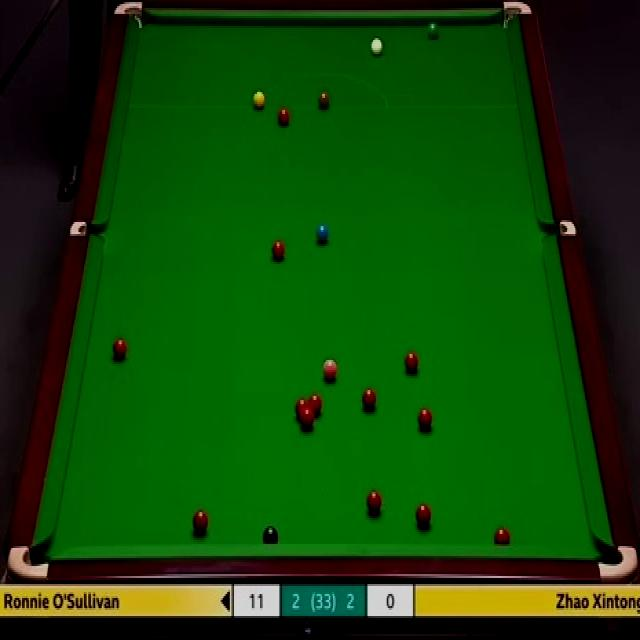black-ball: (262, 523, 280, 545)
blue-ball: (315, 222, 329, 245)
brown-ball: (316, 88, 330, 111)
green-ball: (425, 22, 441, 41)
pink-ball: (323, 354, 338, 382)
red-ball: (403, 349, 420, 378), (111, 336, 128, 363), (414, 503, 431, 529), (366, 489, 382, 515), (417, 405, 432, 430), (361, 387, 376, 412), (276, 104, 290, 130), (194, 508, 208, 534), (271, 239, 286, 262), (308, 394, 322, 418), (494, 526, 510, 546), (301, 410, 314, 430), (295, 398, 308, 418)
white-ball: (368, 36, 384, 58)
yellow-ball: (252, 89, 265, 109)
